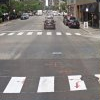crosswalk: (0, 73, 99, 93), (0, 31, 80, 35)
